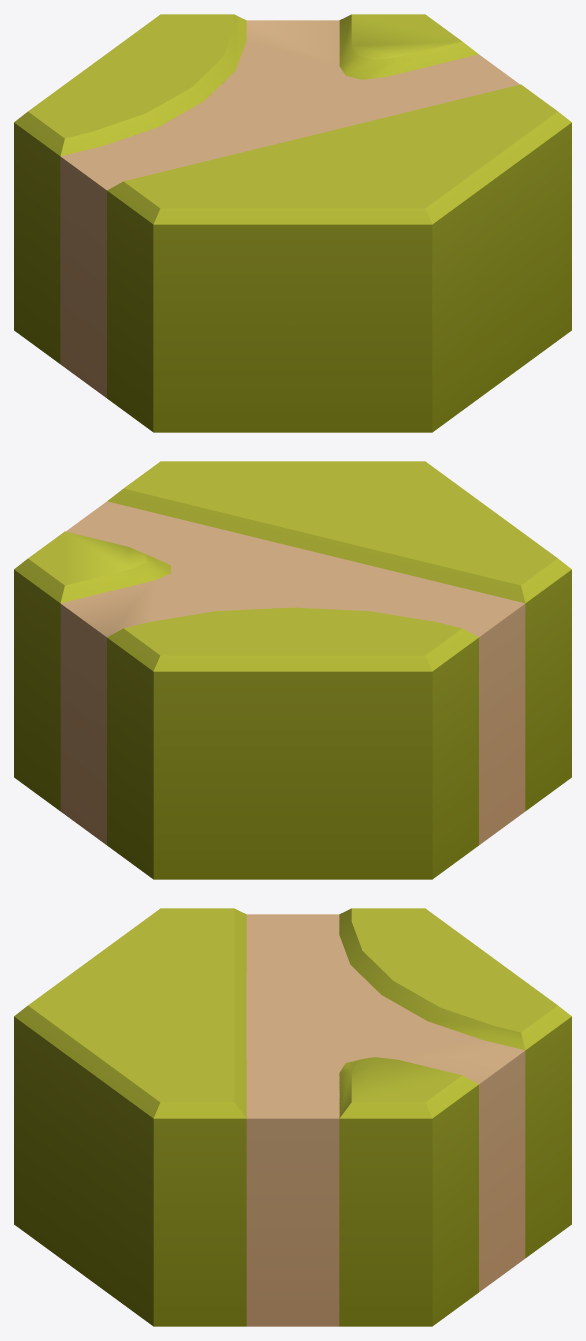
Rendered from hex_road_E.glb.
3 renders of one model, top to bottom at view 1: azimuth 30°, elevation 25°; view 2: azimuth 150°, elevation 25°; view 3: azimuth 270°, elevation 25°, orthographic.
Parts seen in each view (by area): view 1: hex_road_E; view 2: hex_road_E; view 3: hex_road_E.
Boxes of the visible parts, x1,y1,x2,y2 form: hex_road_E: (14, 14, 571, 432); hex_road_E: (14, 461, 571, 879); hex_road_E: (14, 908, 571, 1326).
Bounding box in the file's own units: 2 × 1 × 2.31.
Materials: 1 (1 with a texture image).
